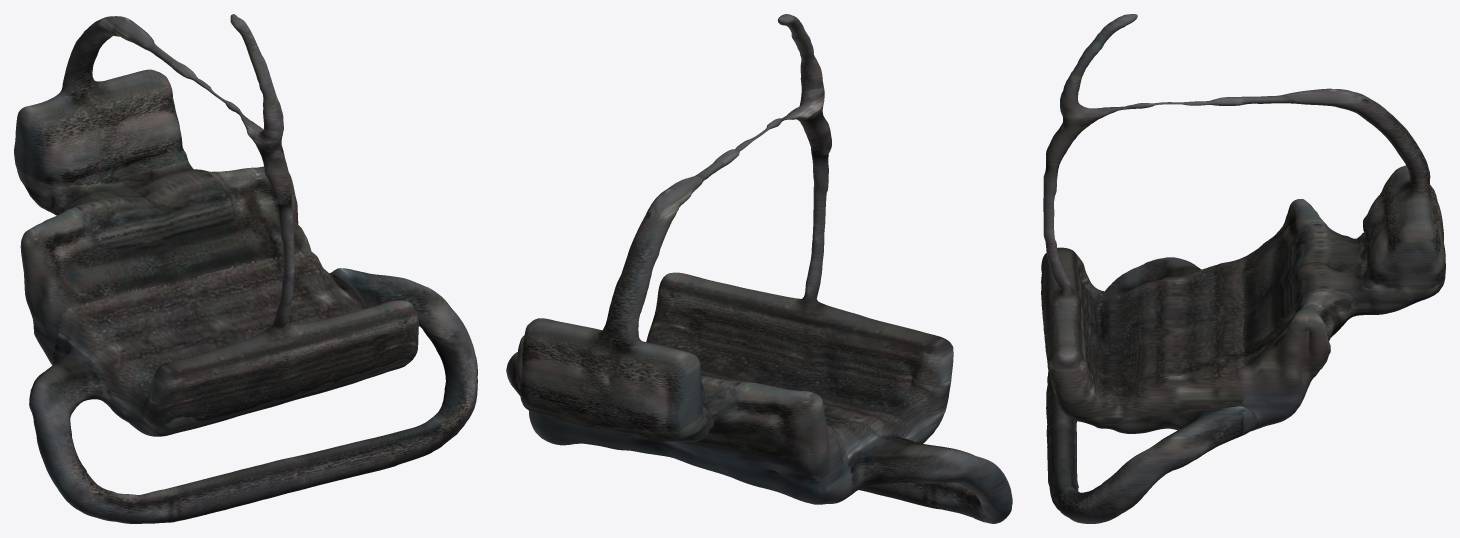
The model's file is kfl-2143.glb.
The picture shows the model from 3 angles, left to right: view 1: azimuth 30°, elevation 25°; view 2: azimuth 150°, elevation 25°; view 3: azimuth 270°, elevation 25°; orthographic projection. The views are drawn at different scales.
Parts seen in each view (by area): view 1: geometry_0; view 2: geometry_0; view 3: geometry_0.
Part boxes in pixels (bbox=[...]): geometry_0: bbox=[14, 14, 477, 523]; geometry_0: bbox=[506, 14, 1012, 523]; geometry_0: bbox=[1041, 14, 1445, 523].
Bounding box in the file's own units: 0.9947 × 0.9922 × 0.8508.
Materials: 1 (1 with a texture image).
